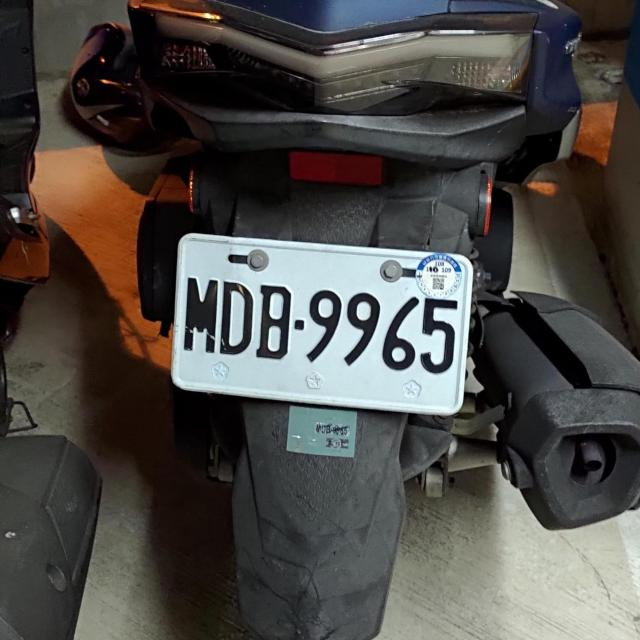W: (165, 232, 479, 416)
